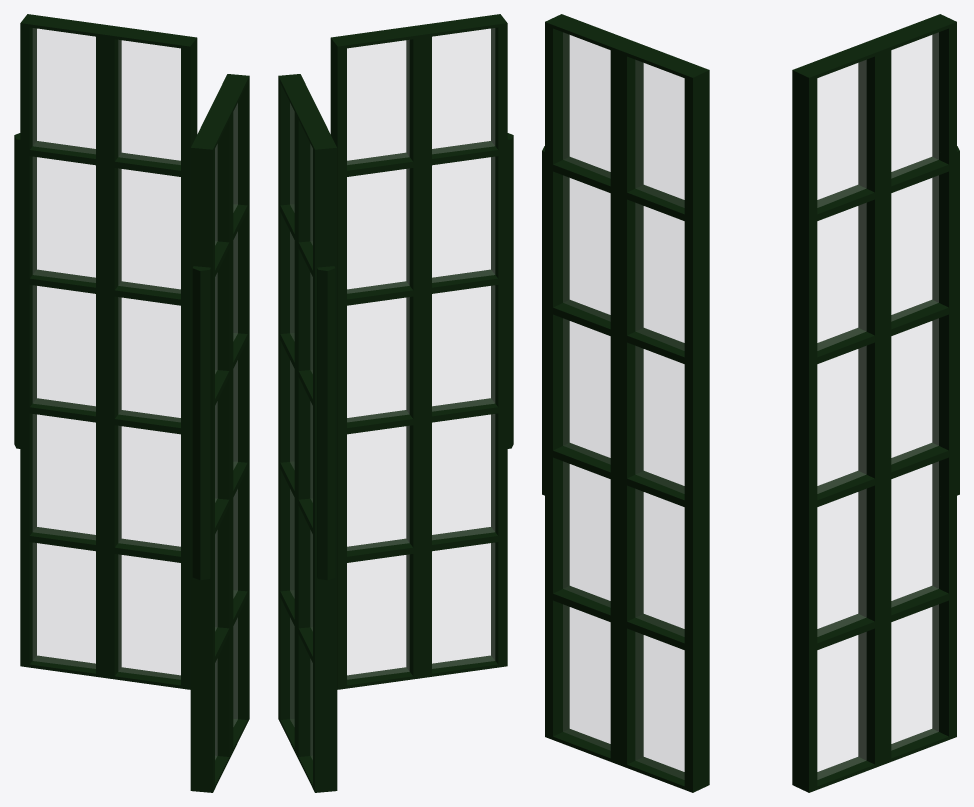
The model's file is Windows.glb.
3 views of the same model, side by side, from view 1: azimuth 30°, elevation 25°; view 2: azimuth 150°, elevation 25°; view 3: azimuth 270°, elevation 25° (orthographic). The views are drawn at different scales.
Visible parts, largest first — view 1: Window_v3-rigid-col, Window_v3-rigid-col.003; view 2: Window_v3-rigid-col.003, Window_v3-rigid-col; view 3: Window_v3-rigid-col, Window_v3-rigid-col.003.
Boxes of the visible parts, <box> form: Window_v3-rigid-col: <box>14,14,197,689</box>; Window_v3-rigid-col.003: <box>190,74,249,792</box>; Window_v3-rigid-col.003: <box>330,14,513,689</box>; Window_v3-rigid-col: <box>278,74,337,792</box>; Window_v3-rigid-col: <box>792,14,959,792</box>; Window_v3-rigid-col.003: <box>542,14,709,792</box>.
Size of the model in its own units: 0.4025 by 2.08 by 1.1.
